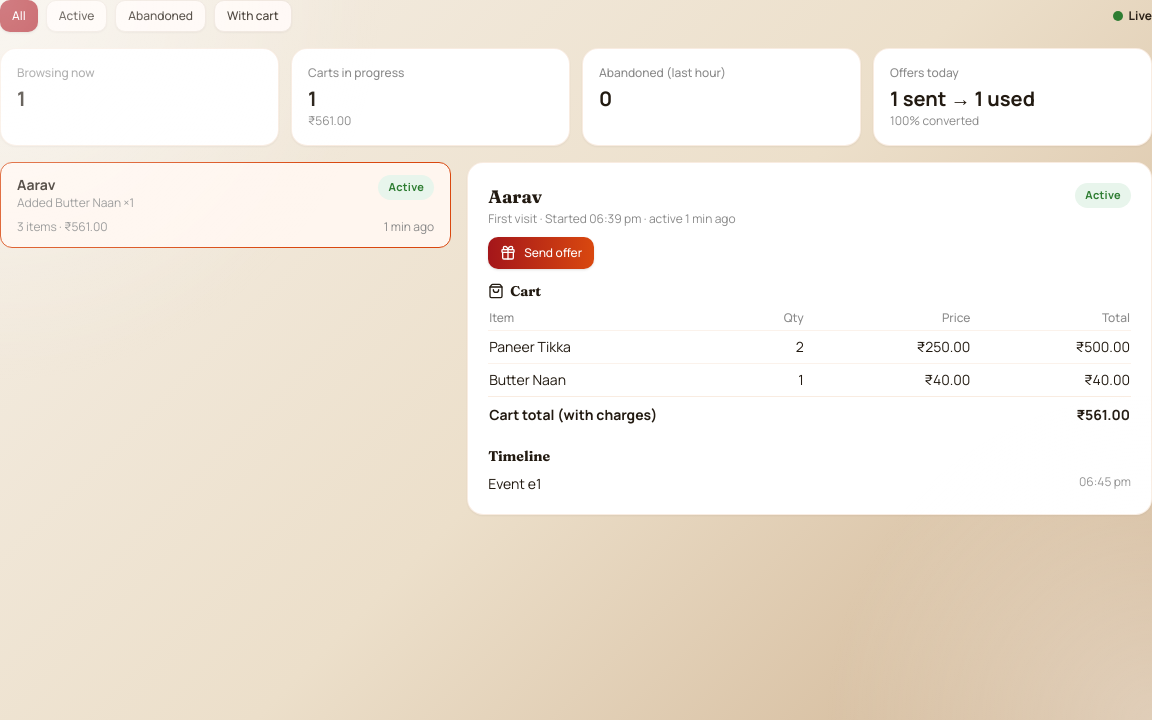
it: Send offer button › is enabled for an eligible customer and opens the dialog
Click the button "Send offer" at (541, 253), box [488,237,594,269]
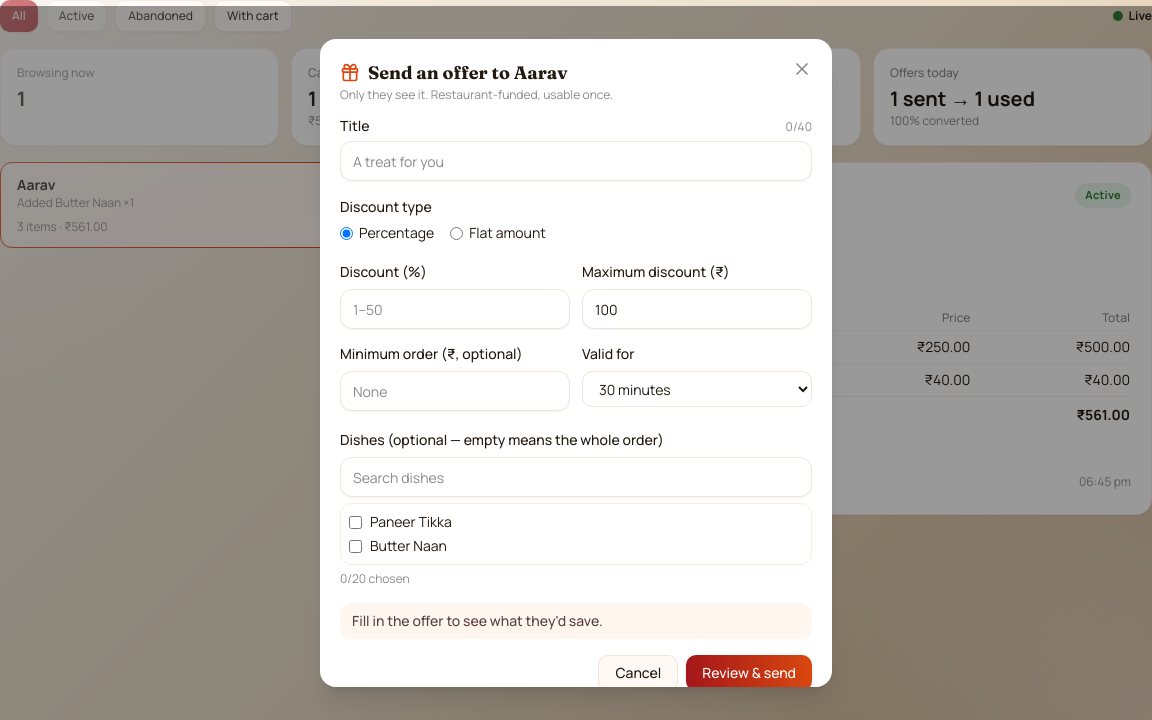
Result: the dialog "Send an offer to Aarav" is shown at [320,39,832,687]
